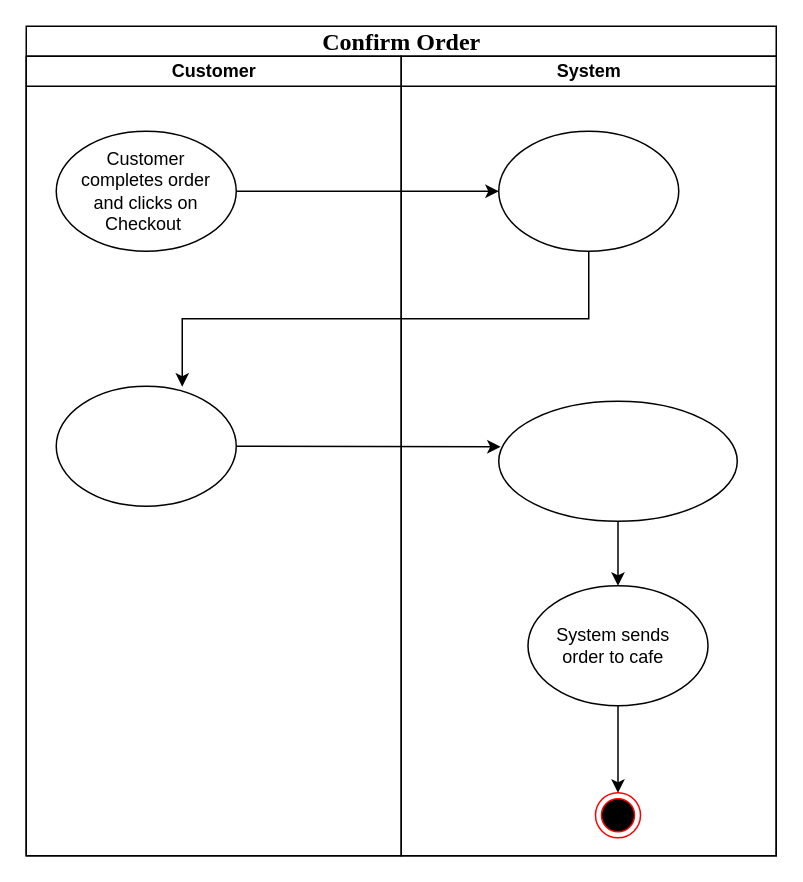
This 803x882 diagram has some shape labels left out. The centre of each missing label's shape, as x and y in pixels:
"Customer clicks on confirm button" belongs at (145,445).
"System clears cart and displays a thank you for your order message" belongs at (617,460).
"System displays order items and a confirm button" belongs at (588,190).
